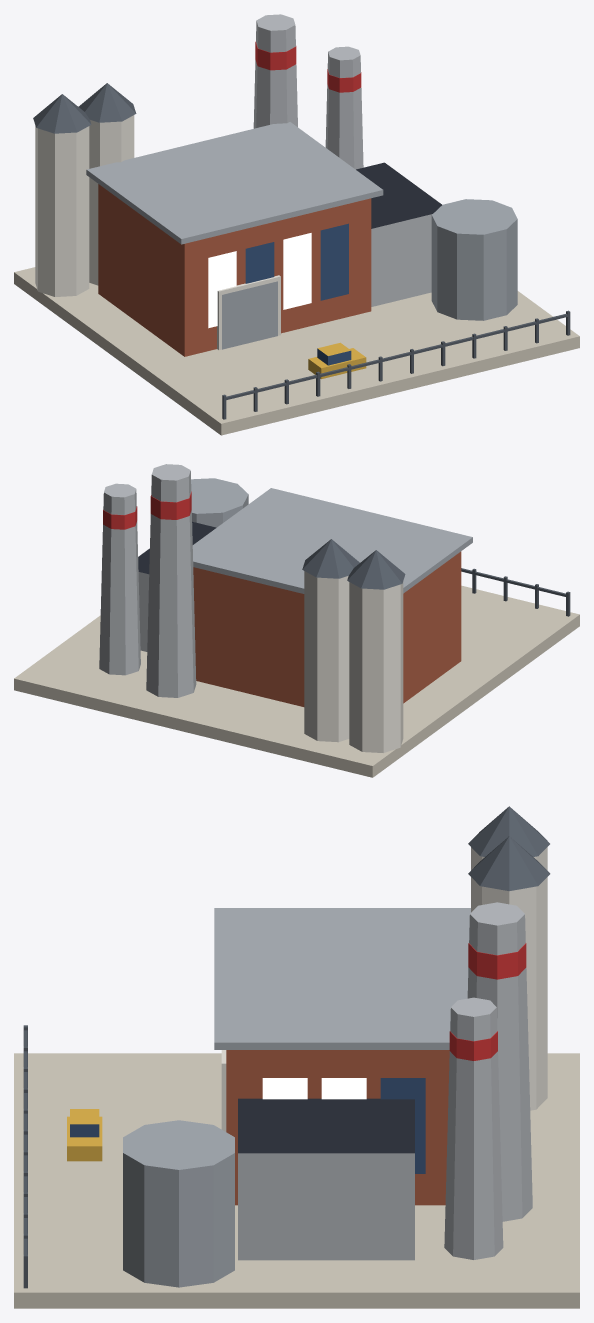
The picture shows the model from 3 angles, top to bottom: view 1: azimuth 30°, elevation 25°; view 2: azimuth 150°, elevation 25°; view 3: azimuth 270°, elevation 25°; orthographic projection. The views are drawn at different scales.
Visible parts, largest first — view 1: b38; view 2: b38; view 3: b38.
Boxes of the visible parts, left/top/right/bottom form: b38: left=14, top=14, right=579, bottom=435; b38: left=14, top=464, right=579, bottom=777; b38: left=14, top=806, right=579, bottom=1308.
Bounding box in the file's own units: 0.97 × 0.58 × 0.96.
